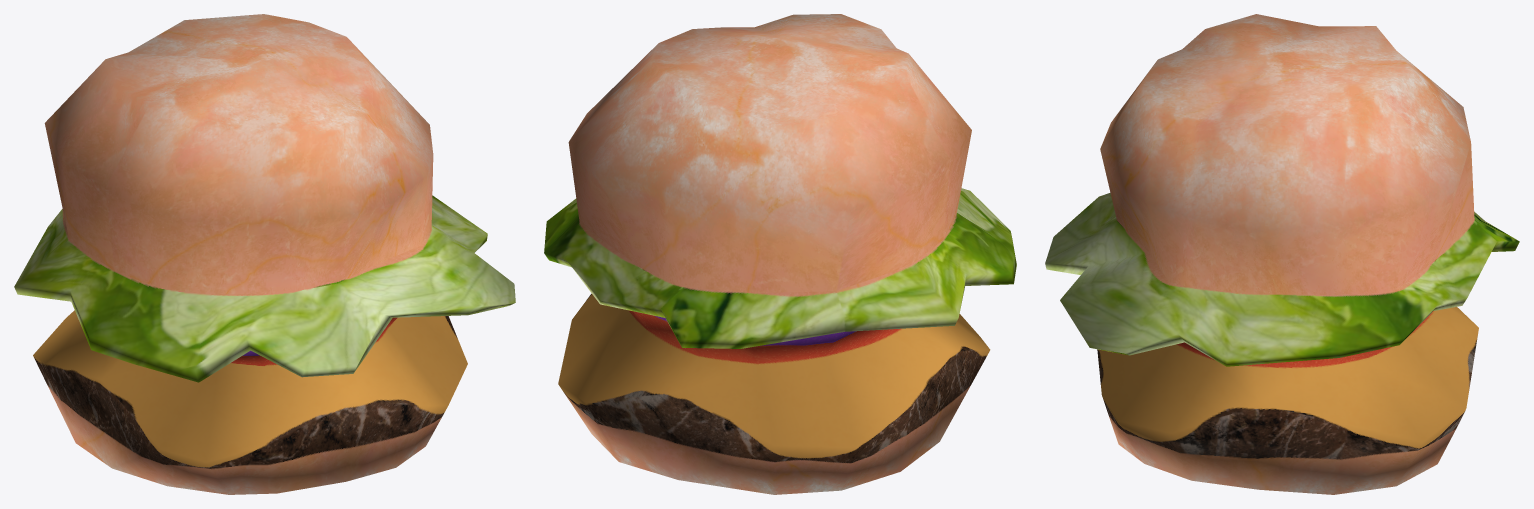
Rendered from Burger.fbx.
The picture shows the model from 3 angles, left to right: view 1: azimuth 30°, elevation 25°; view 2: azimuth 150°, elevation 25°; view 3: azimuth 270°, elevation 25°; orthographic projection. The views are drawn at different scales.
Visible parts, largest first — view 1: BurgerShell; view 2: BurgerShell; view 3: BurgerShell.
Part boxes in pixels (box(x1,y1,x2,y2)): BurgerShell: box(14, 14, 515, 494); BurgerShell: box(544, 14, 1016, 494); BurgerShell: box(1045, 14, 1519, 494).
Bounding box in the file's own units: 2.2 × 1.9 × 2.22.
Materials: 1 (1 with a texture image).
